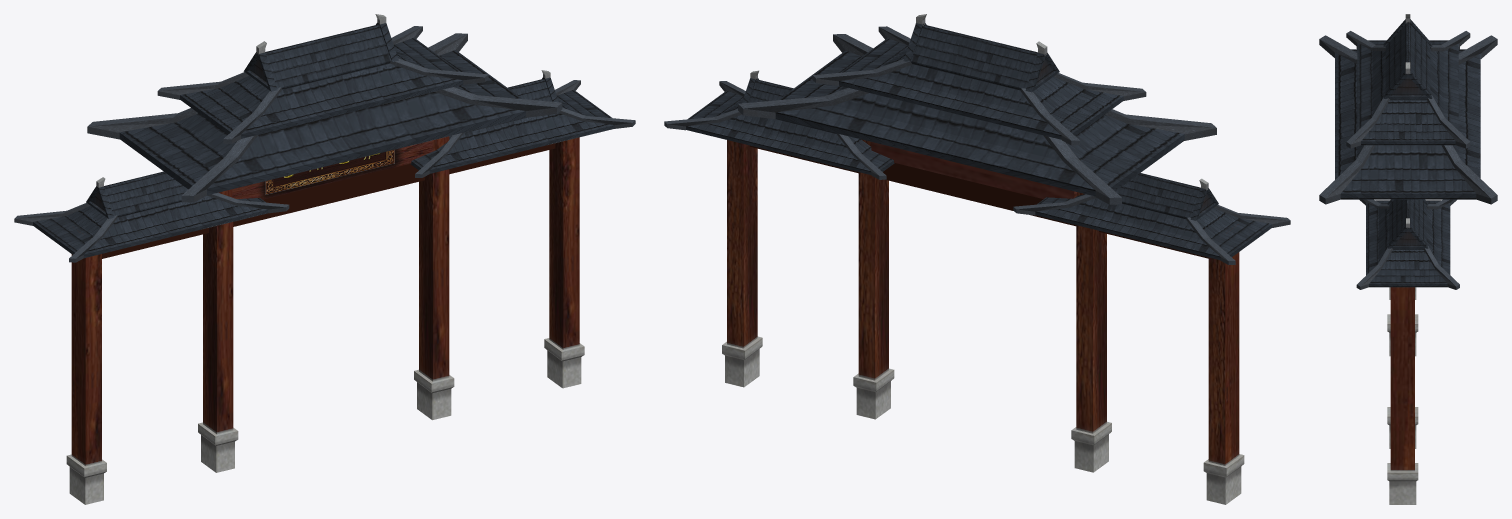
Rendered from ChineseArc.fbx.
3 renders of one model, left to right at view 1: azimuth 30°, elevation 25°; view 2: azimuth 150°, elevation 25°; view 3: azimuth 270°, elevation 25°, orthographic. The views are drawn at different scales.
Parts seen in each view (by area): view 1: Object097_Material #25_0, Object097_Material #37_0; view 2: Object097_Material #25_0, Object097_Material #37_0; view 3: Object097_Material #25_0.
Boxes of the visible parts, x1,y1,x2,y2 form: Object097_Material #25_0: [14, 14, 635, 504]; Object097_Material #37_0: [102, 143, 555, 258]; Object097_Material #25_0: [664, 14, 1290, 504]; Object097_Material #37_0: [749, 145, 1208, 258]; Object097_Material #25_0: [1319, 14, 1497, 504].
Size of the model in its own units: 769 by 530 by 238.
